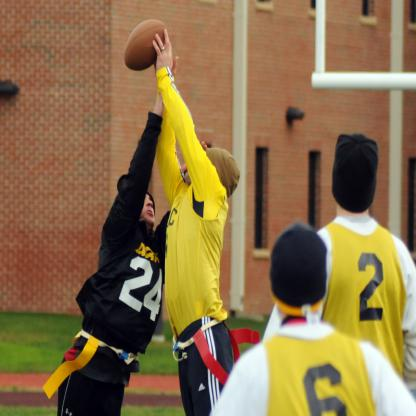Ball: (124, 20, 164, 72)
